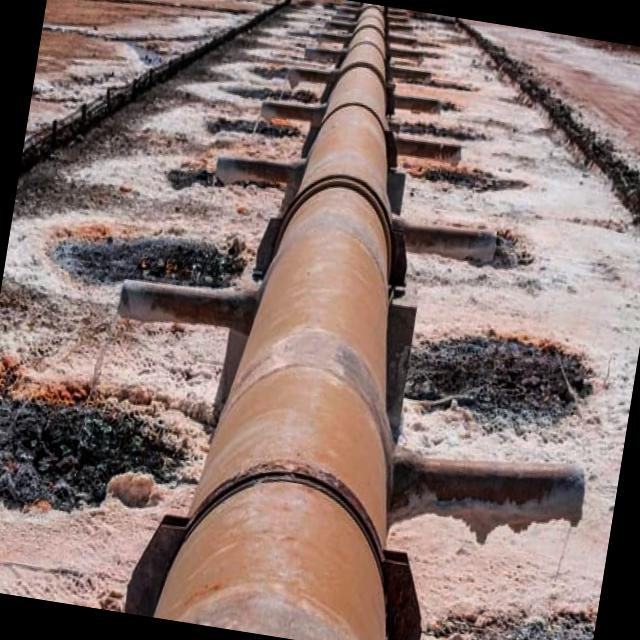gas: (154, 3, 393, 640)
